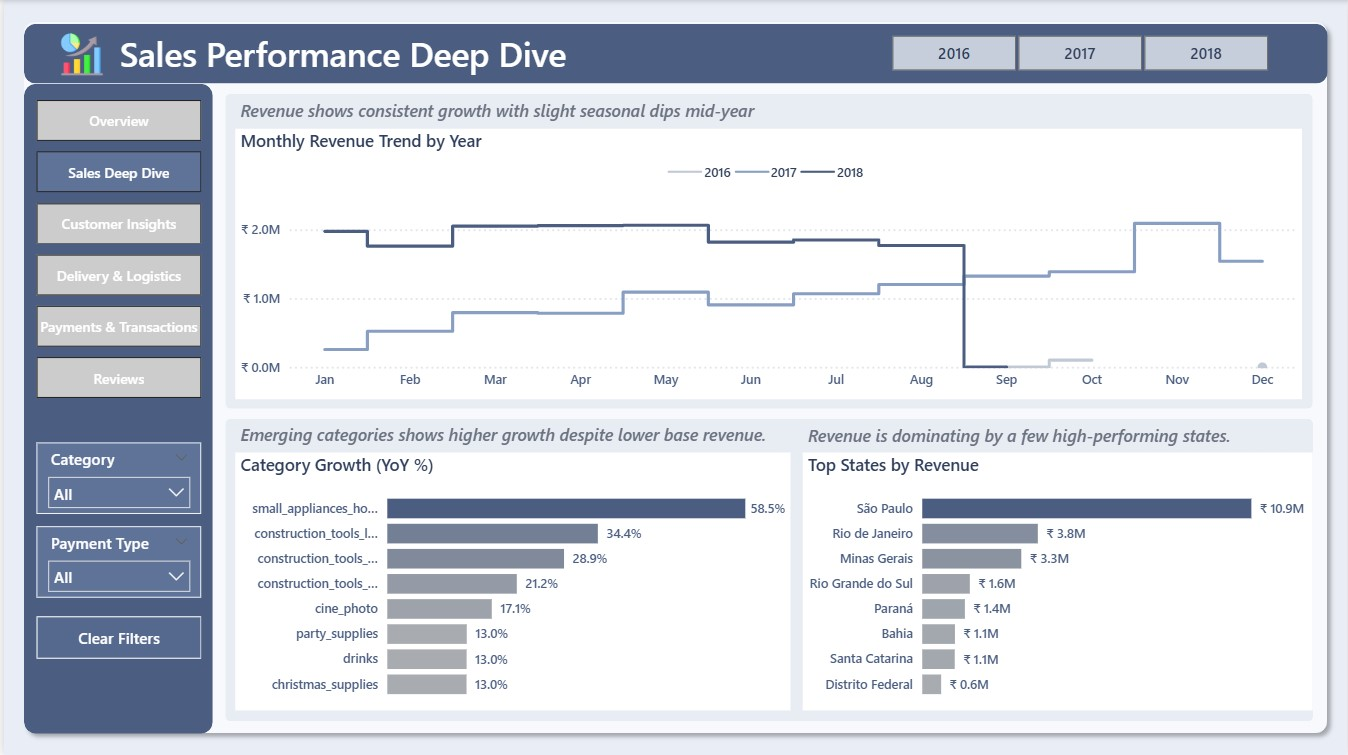

Layout of this report page (visuals, bound fields, positions):
{"tool":"powerbi","page":{"name":"Sales Deep Dive","canvas":[1280,720],"ordinal":1},"visuals":[{"type":"shape","box":[9.5,11.9,1259.5,695.2],"z":0},{"type":"shape","box":[19,22.6,1241.7,57.1],"z":1000},{"type":"textbox","box":[96.4,25,600,54.8],"z":2000},{"type":"slicer","fields":{"Values":["DimDate.Year"]},"box":[823.8,31,400,39.3],"z":3000},{"type":"shape","box":[19,79.8,179.8,619.1],"z":4000},{"type":"slicer","fields":{"Values":["bi_fact_sales_full.category"]},"box":[31,421.4,157.1,67.9],"z":5000},{"type":"slicer","fields":{"Values":["bi_fact_sales_full.payment_type"]},"box":[31,501.2,157.1,67.9],"z":6000},{"type":"actionButton","box":[31,586.9,157.1,40.5],"z":7000},{"type":"shape","box":[210.7,89.3,1035.7,300],"z":8000},{"type":"lineChart","title":"Monthly Revenue Trend by Year","fields":{"Category":["DimDate.Month"],"Y":["bi_fact_sales_full.Revenue"],"Series":["DimDate.Year"]},"box":[220.3,122.7,1015.9,257.2],"z":9000},{"type":"shape","box":[210.8,399,1036.1,288.2],"z":10000},{"type":"clusteredBarChart","title":"Category Growth (YoY %)","fields":{"Category":["bi_fact_sales_full.category"],"Y":["bi_fact_sales_full.YoY %"]},"box":[220.3,431.1,528.8,245.3],"z":11000},{"type":"textbox","box":[220.3,89.3,528.8,33.3],"z":12000},{"type":"textbox","box":[220.3,397.8,528.8,33.3],"z":13000},{"type":"clusteredBarChart","title":"Top States by Revenue","fields":{"Category":["bi_fact_sales_full.State Name"],"Y":["bi_fact_sales_full.Revenue"]},"box":[761,431.1,485.9,245.3],"z":14000},{"type":"textbox","box":[761,399,495.4,32.2],"z":15000},{"type":"pageNavigator","box":[31,95.2,157.1,284.5],"z":16000},{"type":"image","box":[19,31,110.7,41.7],"z":16001}]}

Visuals, with their boxes in screenshot pixels (x1, y1, x2, y2), scaled from the page's 1280x720 canvas onto the 1348x755 screenshot:
shape: <bbox>10, 12, 1336, 741</bbox>
shape: <bbox>20, 24, 1328, 84</bbox>
textbox: <bbox>102, 26, 733, 84</bbox>
slicer - DimDate.Year: <bbox>868, 33, 1289, 74</bbox>
shape: <bbox>20, 84, 209, 733</bbox>
slicer - bi_fact_sales_full.category: <bbox>33, 442, 198, 513</bbox>
slicer - bi_fact_sales_full.payment_type: <bbox>33, 526, 198, 597</bbox>
actionButton: <bbox>33, 615, 198, 658</bbox>
shape: <bbox>222, 94, 1313, 408</bbox>
"Monthly Revenue Trend by Year" lineChart: <bbox>232, 129, 1302, 398</bbox>
shape: <bbox>222, 418, 1313, 721</bbox>
"Category Growth (YoY %)" clusteredBarChart: <bbox>232, 452, 789, 709</bbox>
textbox: <bbox>232, 94, 789, 129</bbox>
textbox: <bbox>232, 417, 789, 452</bbox>
"Top States by Revenue" clusteredBarChart: <bbox>801, 452, 1313, 709</bbox>
textbox: <bbox>801, 418, 1323, 452</bbox>
pageNavigator: <bbox>33, 100, 198, 398</bbox>
image: <bbox>20, 33, 137, 76</bbox>
